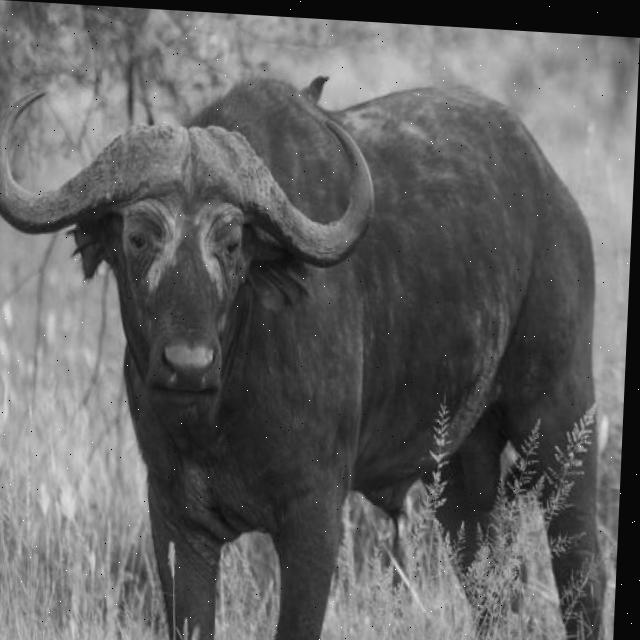Buffalo: (0, 56, 628, 640)
